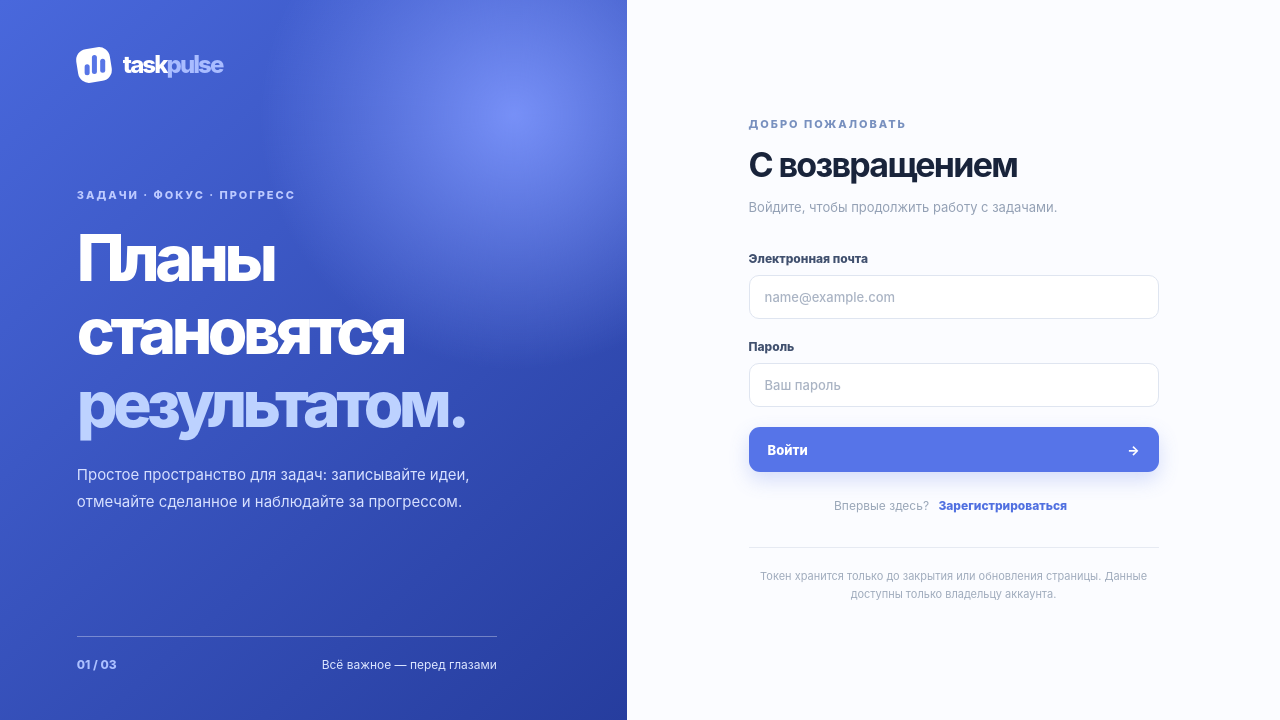
Test: shows the API error when public registration is forbidden
The image size is (1280, 720).
Step 1. Click the button "Зарегистрироваться" → (1003, 506), box [932,497,1073,514]
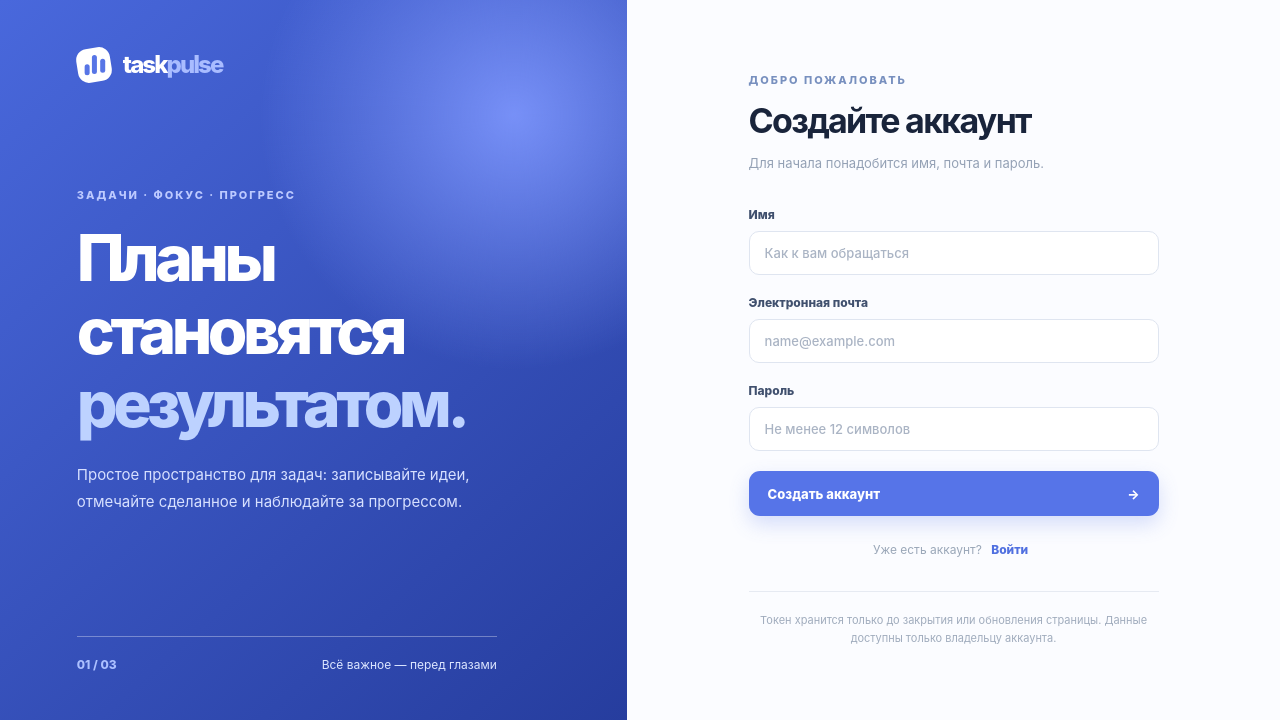
Step 2. Type "Иван Петров" into the field named "fullName" → (954, 253), box [749,231,1159,275]
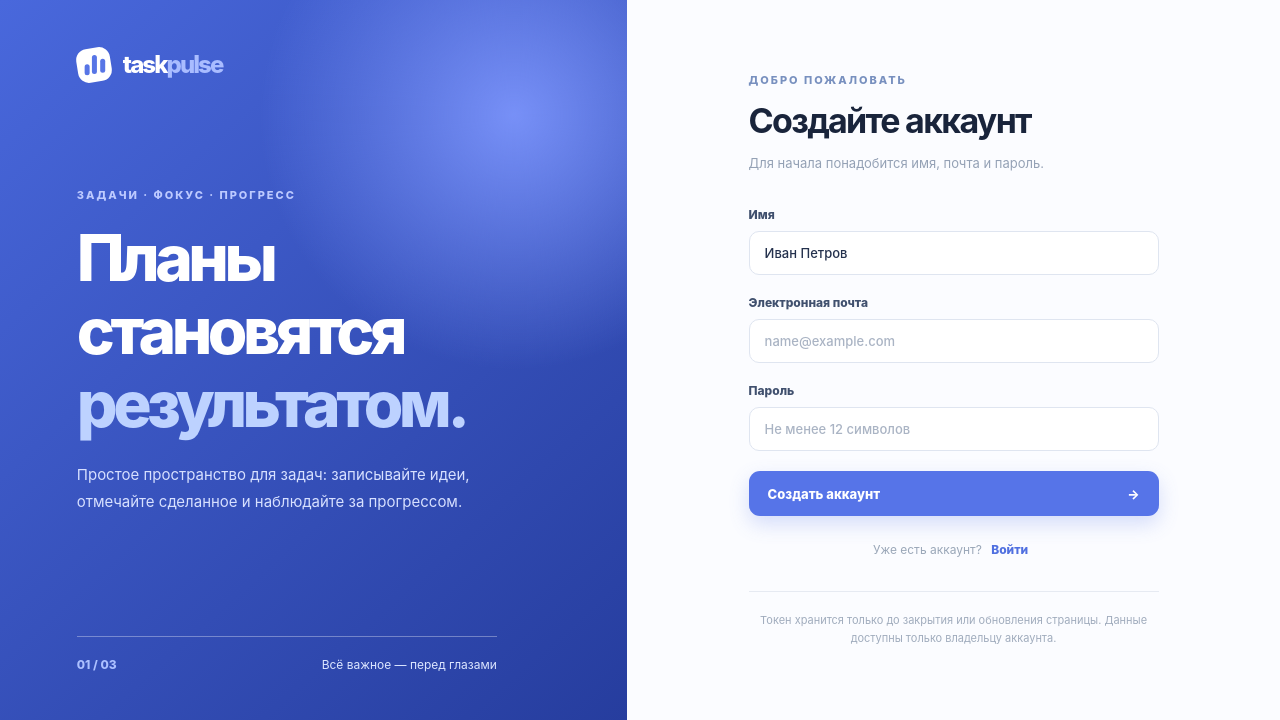
Step 3. Type "user@example.test" into the field named "email" → (954, 341), box [749,319,1159,363]
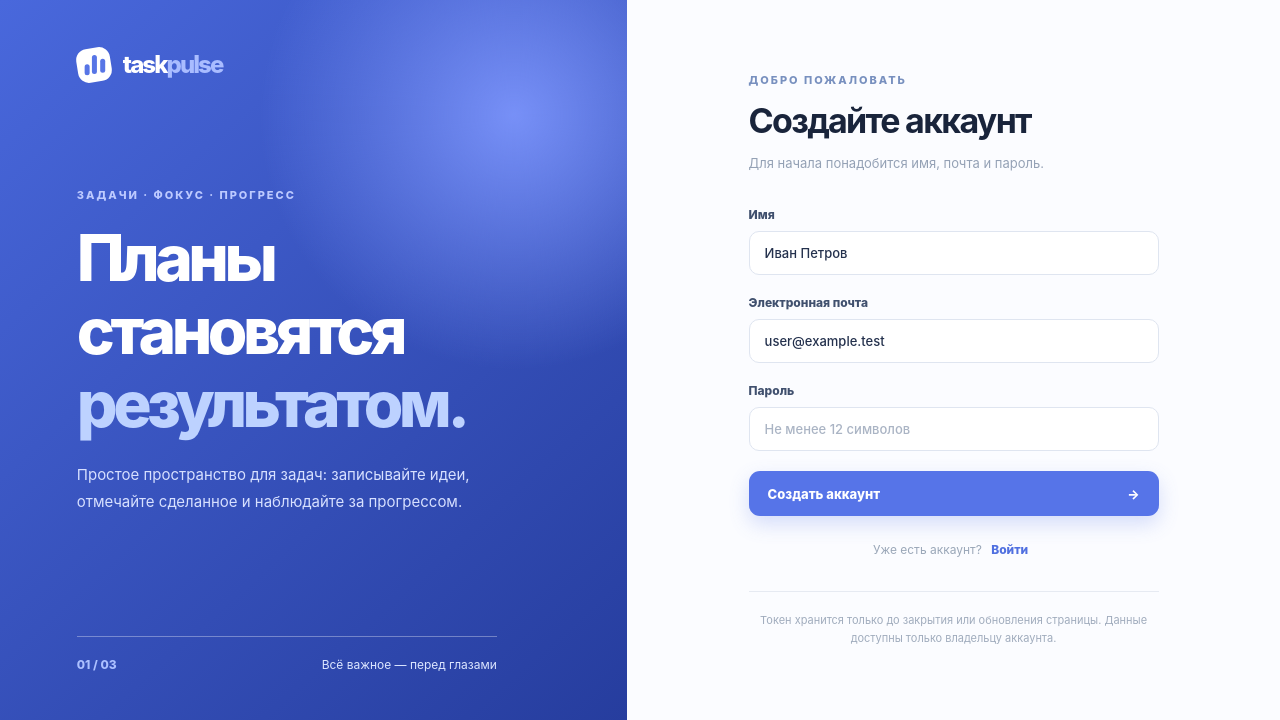
Step 4. Type "a-long-password" into the password field named "password" → (954, 429), box [749,407,1159,451]
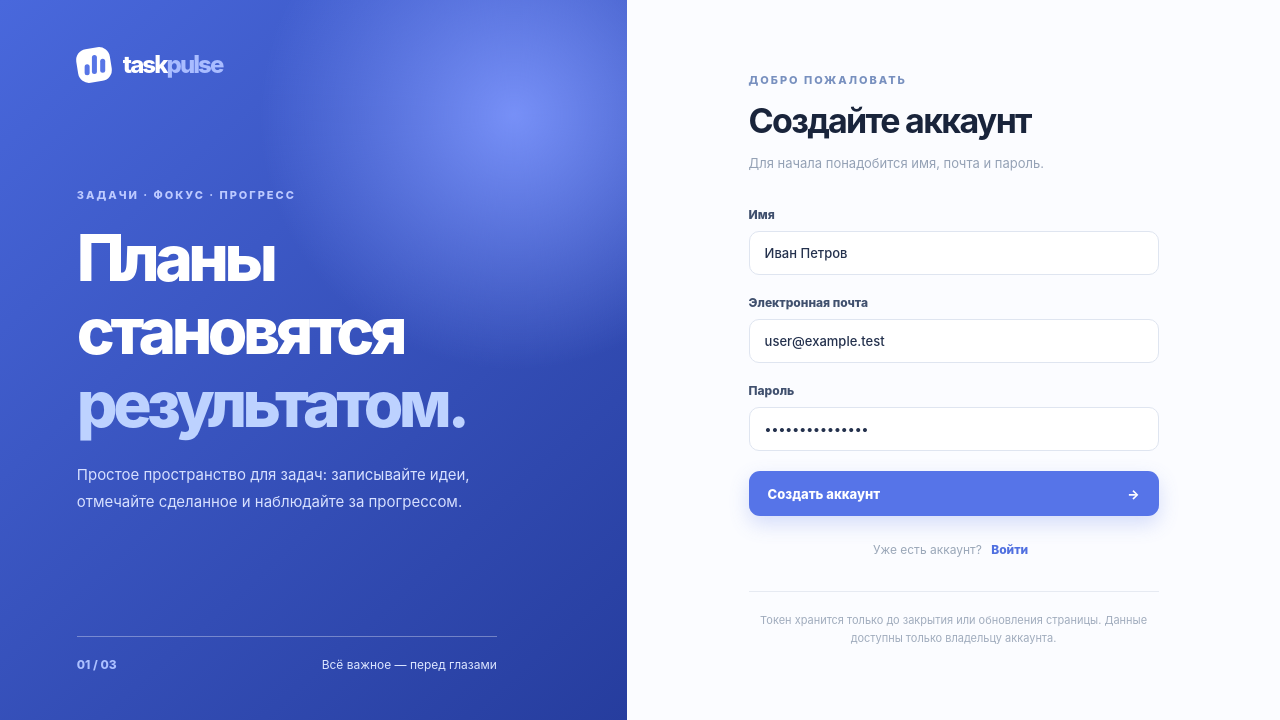
Step 5. Submit the form, box [749,207,1159,516]
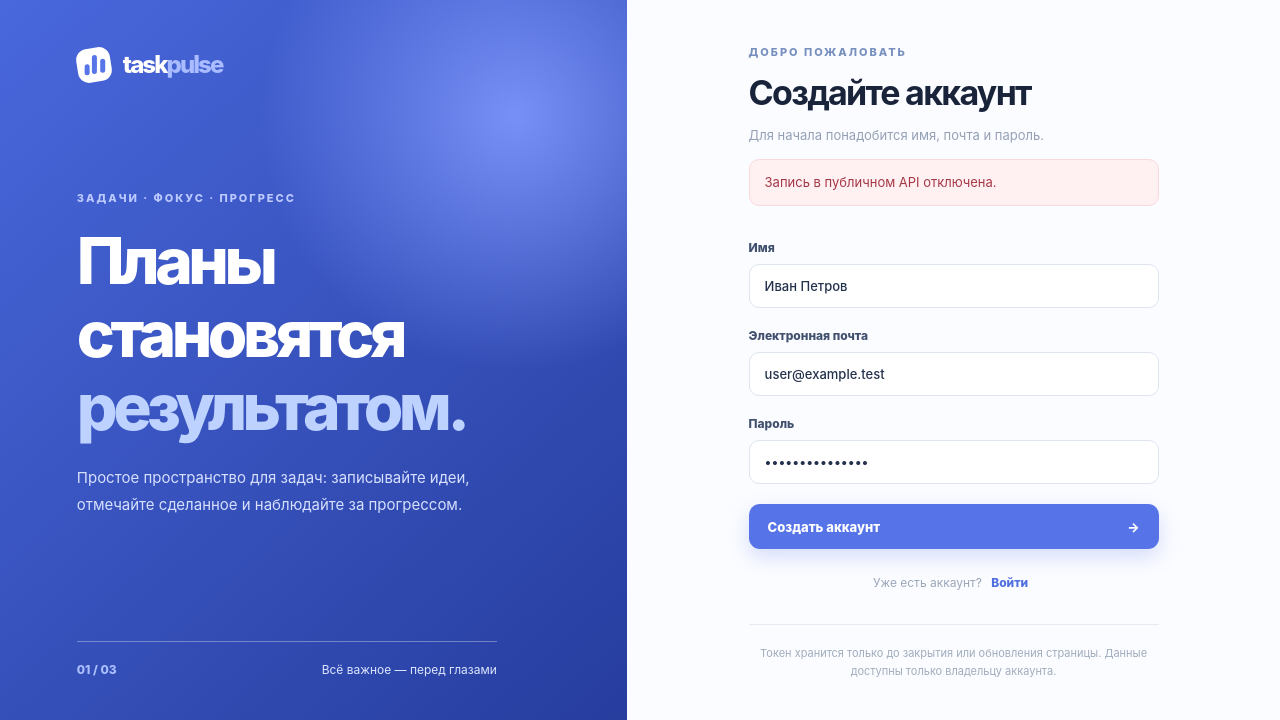
Expected: the message "Запись в публичном API отключена." is shown, [749,158,1159,206]
